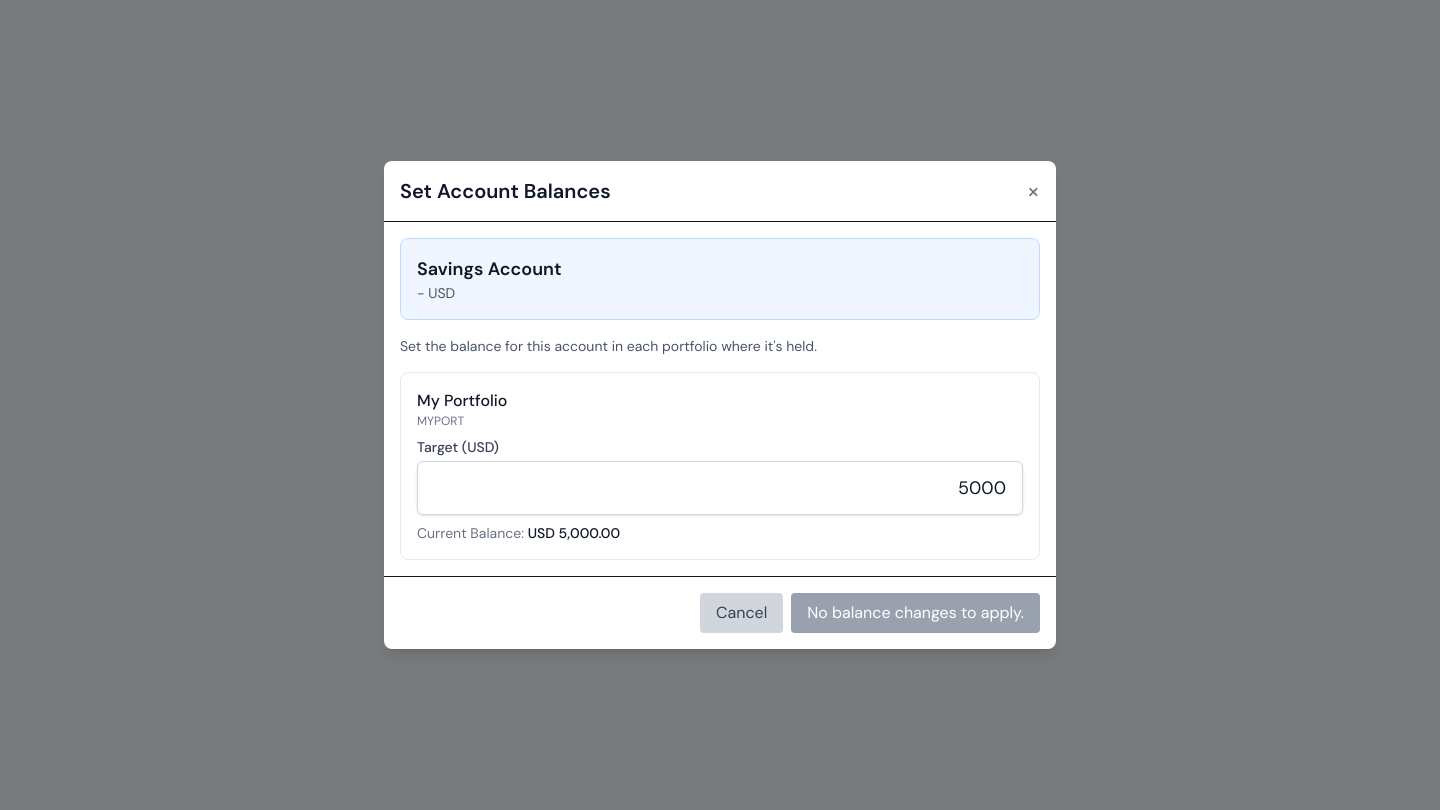
Test: SetAccountBalancesDialog › shows an error when the submit API rejects
The width and height of the screenshot is (1440, 810).
Expected: the text "My Portfolio" is shown, [417,389,507,413]
Replace the text in the field named "Target balance for My Portfolio" with "6000" at (720, 488), box [417,461,1023,515]
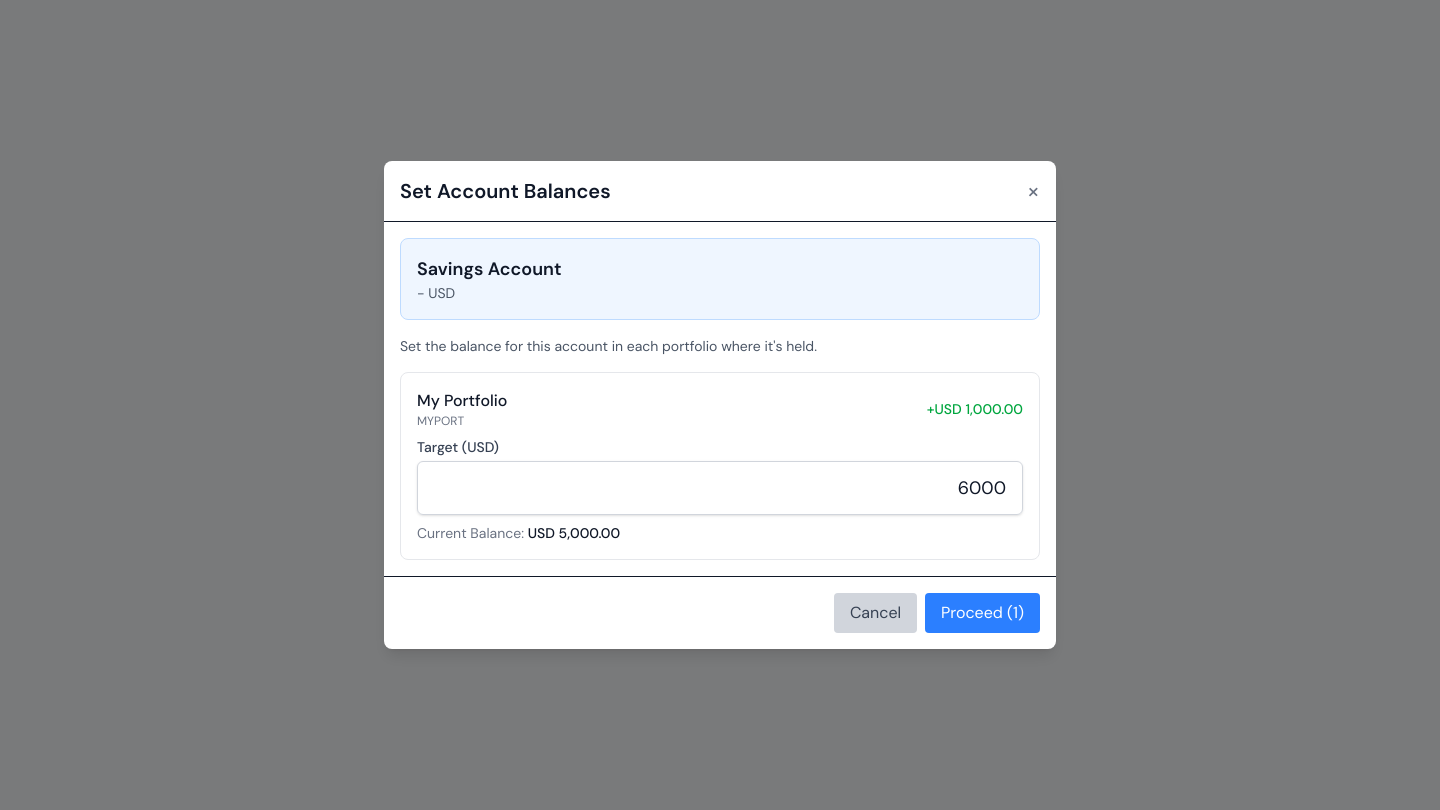
Expected: the button "Proceed (1)" is enabled
Click the button "Proceed (1)" at (983, 613), box [925,593,1040,633]
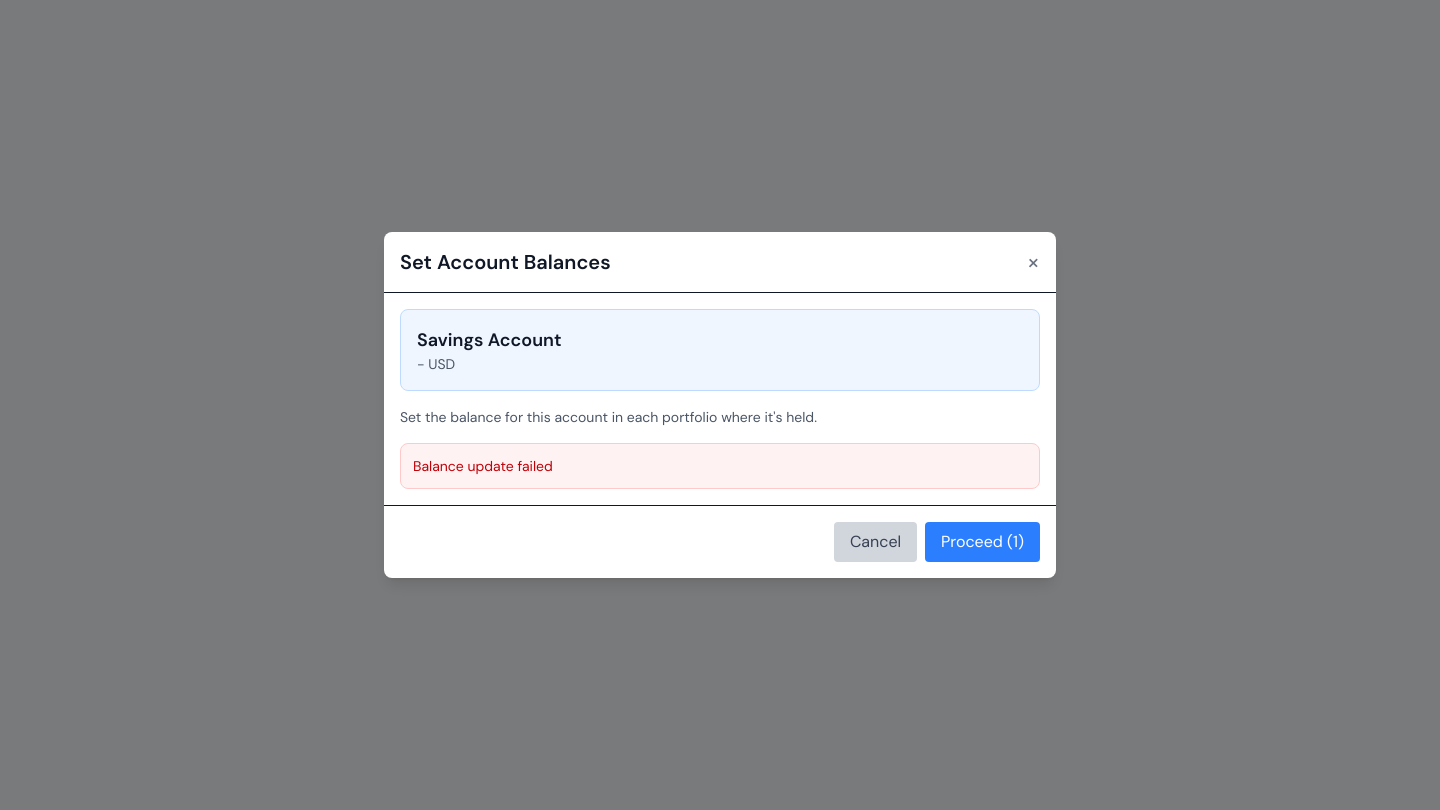
Expected: the text "Balance update failed" is shown, [400,443,1040,489]
